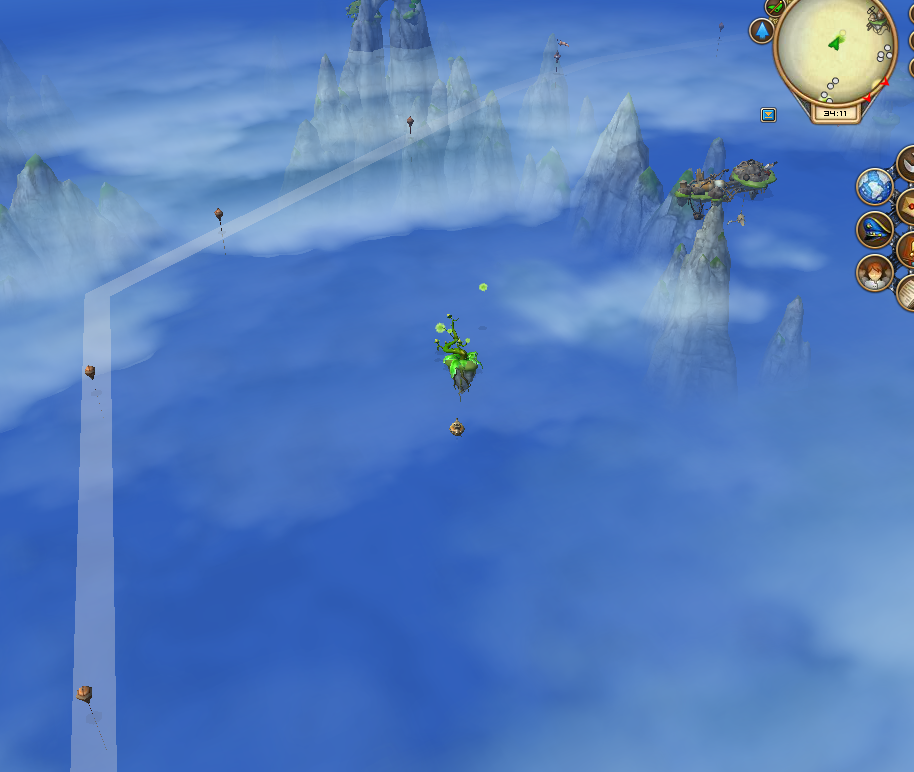dandelion-full: (430, 310, 485, 390)
fluff: (478, 279, 488, 295)
